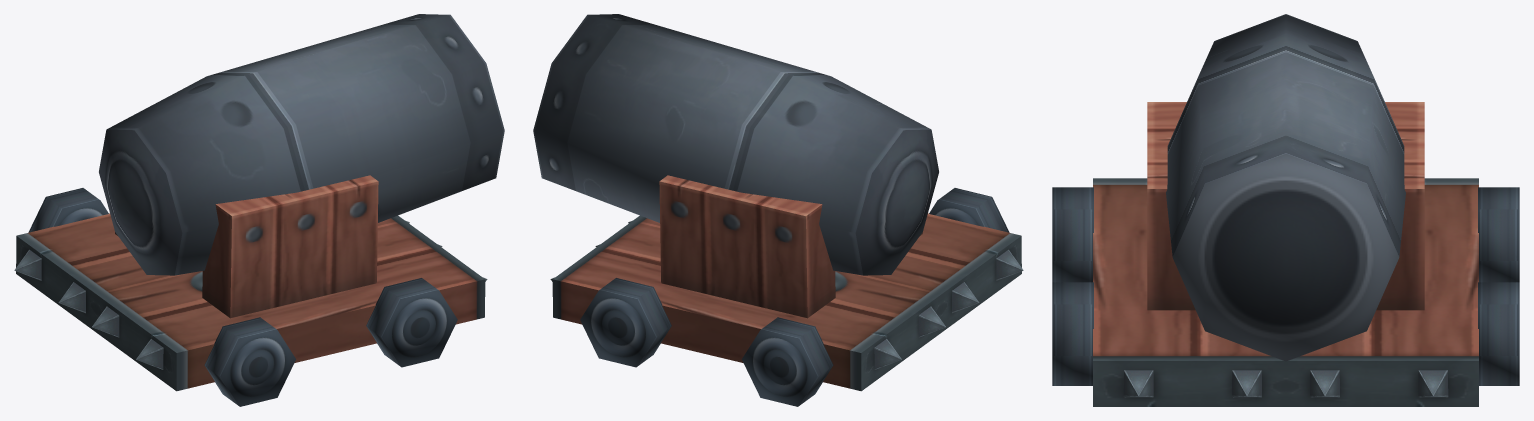
File: cannon_01.fbx
3 renders of one model, left to right at view 1: azimuth 30°, elevation 25°; view 2: azimuth 150°, elevation 25°; view 3: azimuth 270°, elevation 25°, orthographic. The views are drawn at different scales.
Visible parts, largest first — view 1: cannon_01:Mesh; view 2: cannon_01:Mesh; view 3: cannon_01:Mesh.
Boxes of the visible parts, x1,y1,x2,y2 form: cannon_01:Mesh: (14,14,504,406); cannon_01:Mesh: (533,14,1023,406); cannon_01:Mesh: (1052,14,1519,406).
Size of the model in its own units: 1.23 by 0.7418 by 1.06.
1 material, 1 textured.
